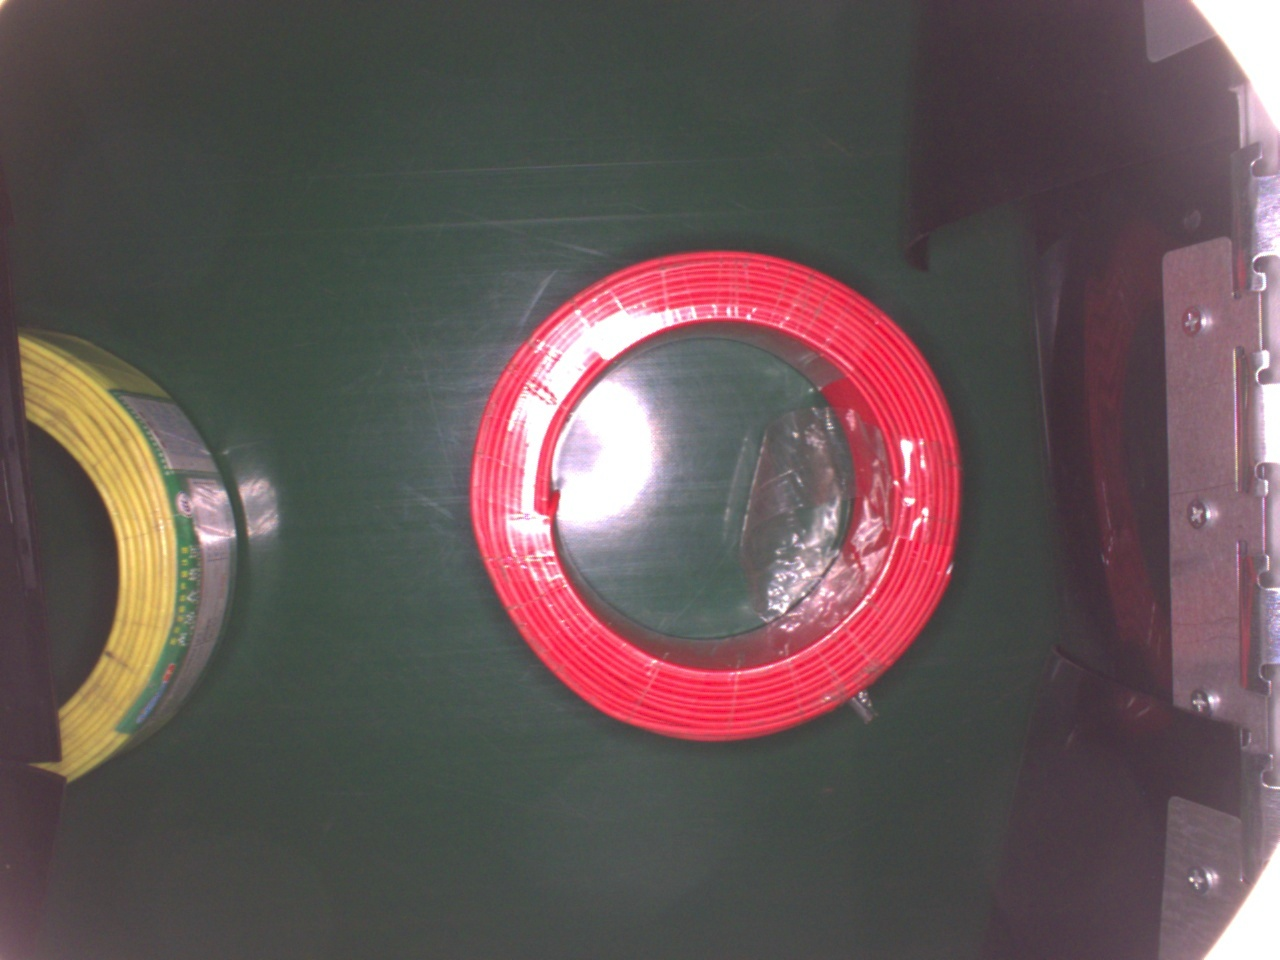red: (461, 247, 973, 748)
yellow: (17, 325, 239, 781)
